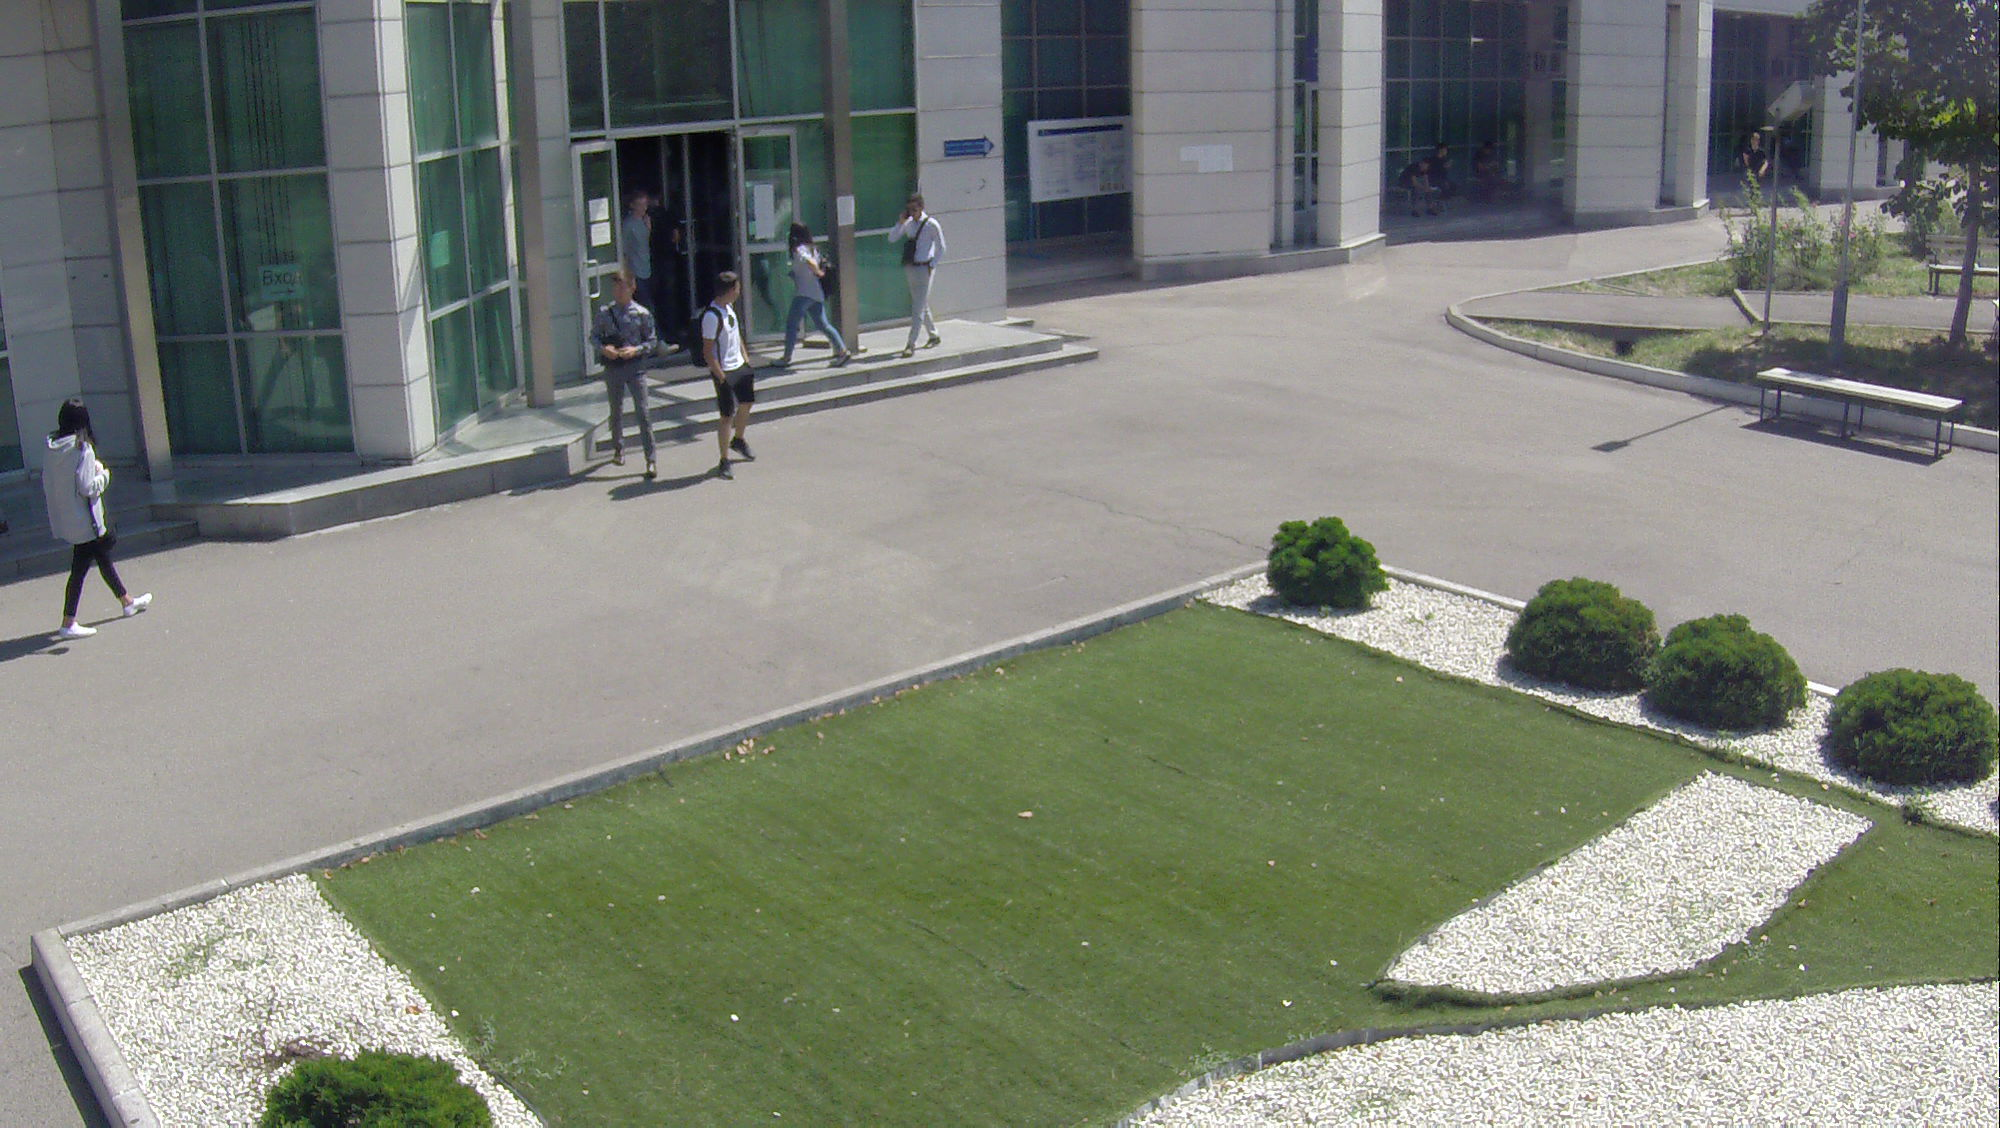person: (24, 390, 157, 650), (686, 263, 762, 501), (587, 272, 664, 491), (771, 216, 861, 386), (891, 187, 949, 372), (616, 183, 661, 334)
